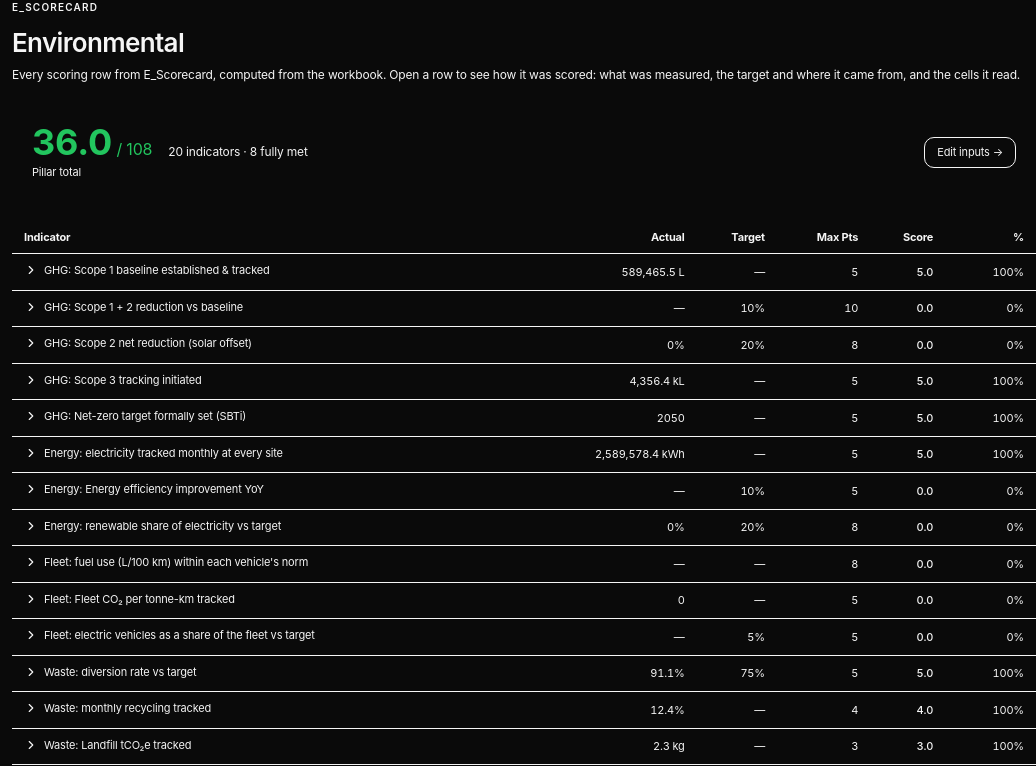
Scenario: EsgScorecardPage — every number explains itself › opens a row onto its rule, its target's source and the cells it read
Click the button with test id "esg-trace-toggle-d19" at [110, 672], box [24,664,196,680]
(page scrolled)
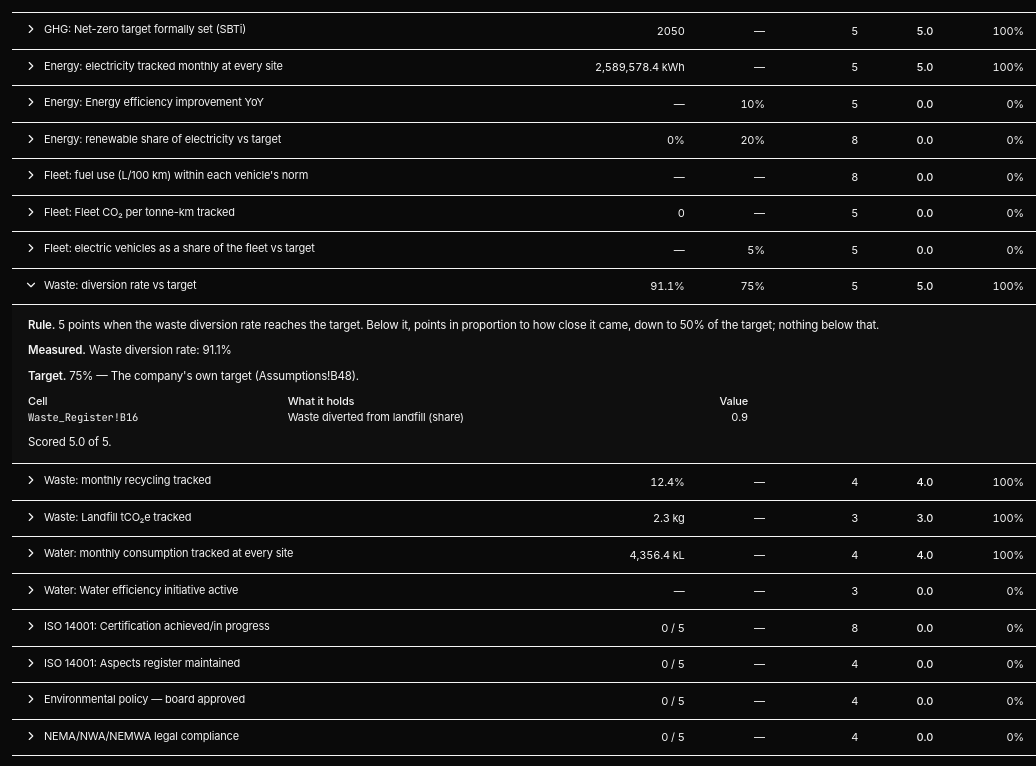
Expected: the button with test id "esg-trace-toggle-d19" is expanded, [24,276,196,293]
Expected: the cell with test id "esg-trace-environmental-d19" shows "reaches the target", [58,318,879,332]
Expected: the cell with test id "esg-trace-environmental-d19" shows "company's own target (Assumptions!B48)", [111,368,359,382]
